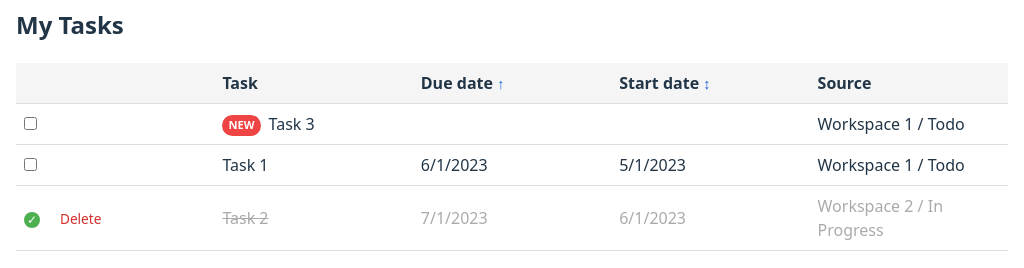
Scenario: MyTasks Component › shows task description tooltip on hover
// Find Task 1 and hover over it
Step 1. Hover over the text "Task 1" → coordinates (314, 165), box x1=214 y1=145 x2=413 y2=186
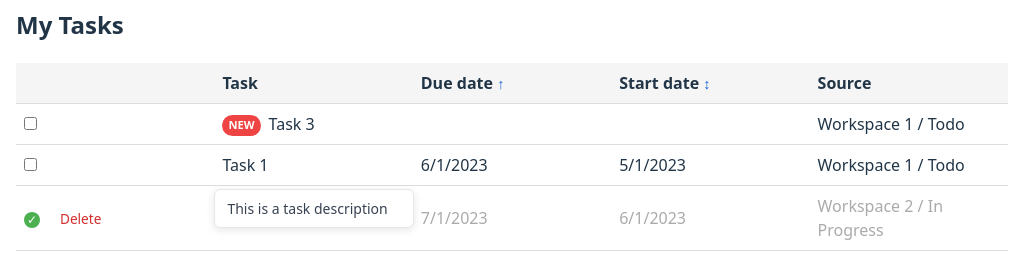
Result: the text "This is a task description" is shown at x1=214 y1=189 x2=414 y2=228
